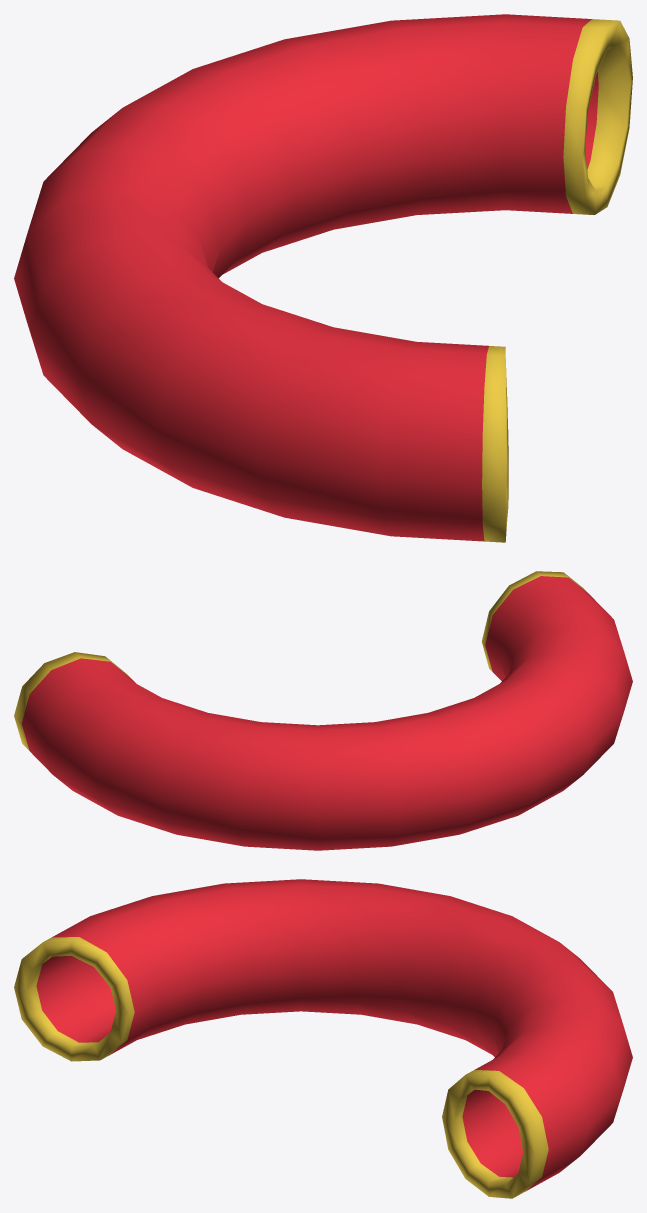
Rendered from ratTube.fbx.
The picture shows the model from 3 angles, top to bottom: view 1: azimuth 30°, elevation 25°; view 2: azimuth 150°, elevation 25°; view 3: azimuth 270°, elevation 25°; orthographic projection. The views are drawn at different scales.
Parts seen in each view (by area): view 1: Rat Tube; view 2: Rat Tube; view 3: Rat Tube.
Part boxes in pixels (box(x1,y1,x2,y2)): Rat Tube: box(14, 14, 632, 542); Rat Tube: box(14, 571, 632, 850); Rat Tube: box(14, 879, 632, 1198).
Size of the model in its own units: 471 by 515 by 110.
